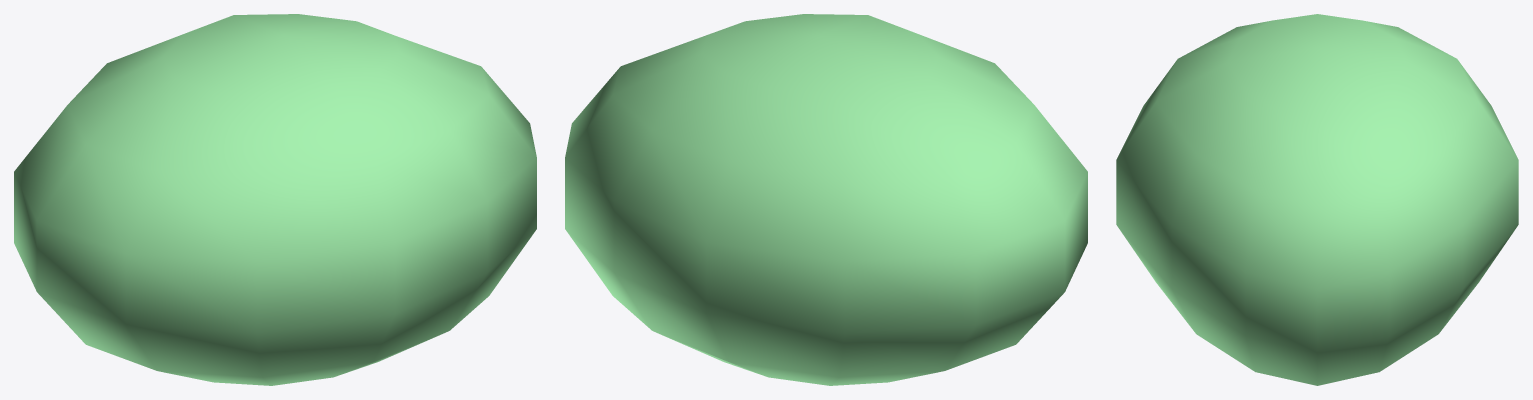
The model's file is head.glb.
3 renders of one model, left to right at view 1: azimuth 30°, elevation 25°; view 2: azimuth 150°, elevation 25°; view 3: azimuth 270°, elevation 25°, orthographic. The views are drawn at different scales.
Visible parts, largest first — view 1: head; view 2: head; view 3: head.
Part boxes in pixels (bbox=[...]): head: bbox=[14, 14, 536, 385]; head: bbox=[565, 14, 1087, 385]; head: bbox=[1116, 14, 1518, 385].
Size of the model in its own units: 1.09 by 0.68 by 0.8579.
